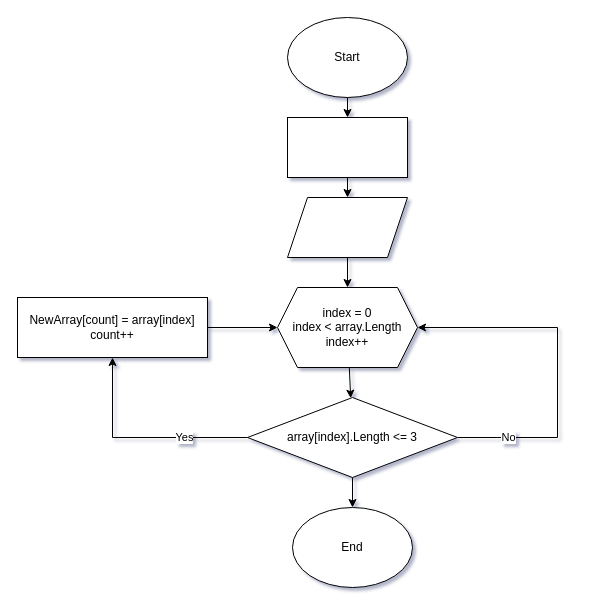
Image size: 589x611. Some labels were removed from this diagram. Here are the shapes that lost their labels. From the top down, the centre of each, then its label:
the point at 347,147: SecondArray
the point at 347,227: array [] NewArray count = 0
